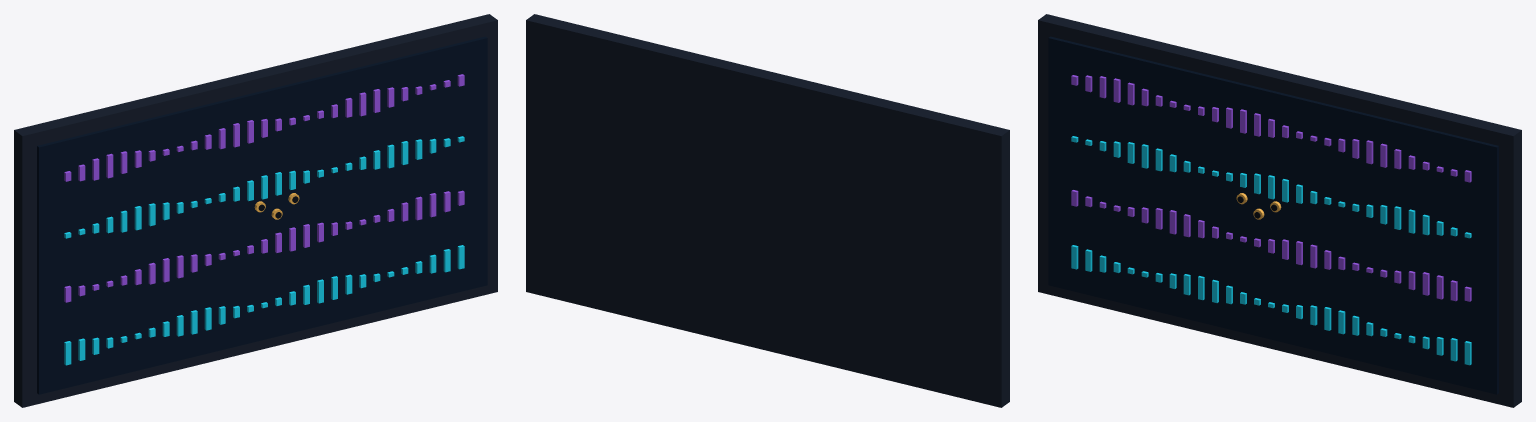
The model's file is 09_L91_PulsarPhaseReferenceDisplay.fbx.
3 renders of one model, left to right at view 1: azimuth 30°, elevation 25°; view 2: azimuth 150°, elevation 25°; view 3: azimuth 330°, elevation 25°, orthographic.
Parts seen in each view (by area): view 1: L91_PulsarPhaseReferenceDisplay_Part_0001, L91_PulsarPhaseReferenceDisplay, L91_PulsarPhaseReferenceDisplay_Part_0007, L91_PulsarPhaseReferenceDisplay_Part_0003, L91_PulsarPhaseReferenceDisplay_Part_0002, L91_PulsarPhaseReferenceDisplay_Part_0006, L91_PulsarPhaseReferenceDisplay_Part_0004, L91_PulsarPhaseReferenceDisplay_Part_0008, L91_PulsarPhaseReferenceDisplay_Part_0005, L91_PulsarPhaseReferenceDisplay_Part_0009; view 2: L91_PulsarPhaseReferenceDisplay; view 3: L91_PulsarPhaseReferenceDisplay_Part_0001, L91_PulsarPhaseReferenceDisplay, L91_PulsarPhaseReferenceDisplay_Part_0007, L91_PulsarPhaseReferenceDisplay_Part_0003, L91_PulsarPhaseReferenceDisplay_Part_0002, L91_PulsarPhaseReferenceDisplay_Part_0004, L91_PulsarPhaseReferenceDisplay_Part_0006, L91_PulsarPhaseReferenceDisplay_Part_0008, L91_PulsarPhaseReferenceDisplay_Part_0005, L91_PulsarPhaseReferenceDisplay_Part_0009.
Part boxes in pixels (x1,y1,x2,y2): L91_PulsarPhaseReferenceDisplay_Part_0001: (37, 36, 487, 394); L91_PulsarPhaseReferenceDisplay: (14, 14, 497, 407); L91_PulsarPhaseReferenceDisplay_Part_0007: (64, 151, 464, 247); L91_PulsarPhaseReferenceDisplay_Part_0003: (64, 210, 464, 304); L91_PulsarPhaseReferenceDisplay_Part_0002: (64, 291, 295, 365); L91_PulsarPhaseReferenceDisplay_Part_0006: (64, 227, 295, 302); L91_PulsarPhaseReferenceDisplay_Part_0004: (134, 156, 366, 230); L91_PulsarPhaseReferenceDisplay_Part_0008: (134, 92, 366, 167); L91_PulsarPhaseReferenceDisplay_Part_0005: (373, 136, 464, 169); L91_PulsarPhaseReferenceDisplay_Part_0009: (373, 74, 464, 112); L91_PulsarPhaseReferenceDisplay: (526, 14, 1009, 407); L91_PulsarPhaseReferenceDisplay_Part_0001: (1048, 36, 1498, 394); L91_PulsarPhaseReferenceDisplay: (1038, 14, 1521, 407); L91_PulsarPhaseReferenceDisplay_Part_0007: (1071, 75, 1471, 301); L91_PulsarPhaseReferenceDisplay_Part_0003: (1071, 136, 1471, 365); L91_PulsarPhaseReferenceDisplay_Part_0002: (1071, 245, 1302, 319); L91_PulsarPhaseReferenceDisplay_Part_0004: (1141, 144, 1373, 217); L91_PulsarPhaseReferenceDisplay_Part_0006: (1071, 190, 1302, 265); L91_PulsarPhaseReferenceDisplay_Part_0008: (1141, 88, 1373, 164); L91_PulsarPhaseReferenceDisplay_Part_0005: (1380, 205, 1471, 238); L91_PulsarPhaseReferenceDisplay_Part_0009: (1380, 143, 1471, 182).
Size of the model in its own units: 650 by 355 by 64.2.
